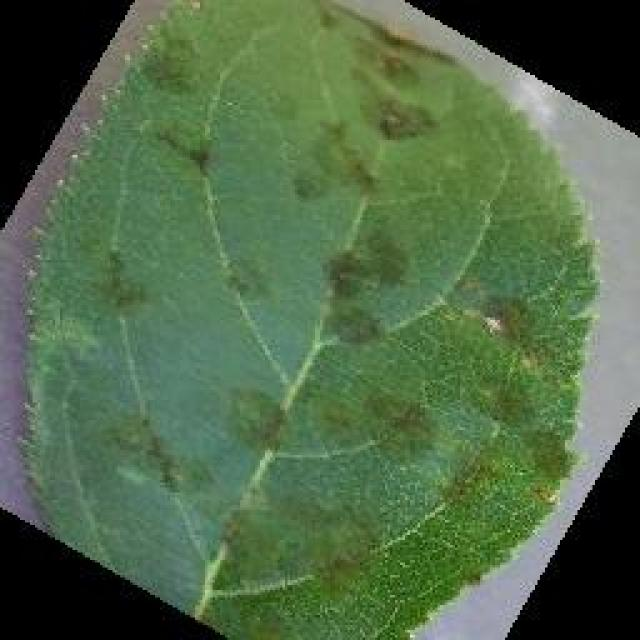apple scab disease: (15, 0, 603, 638)
